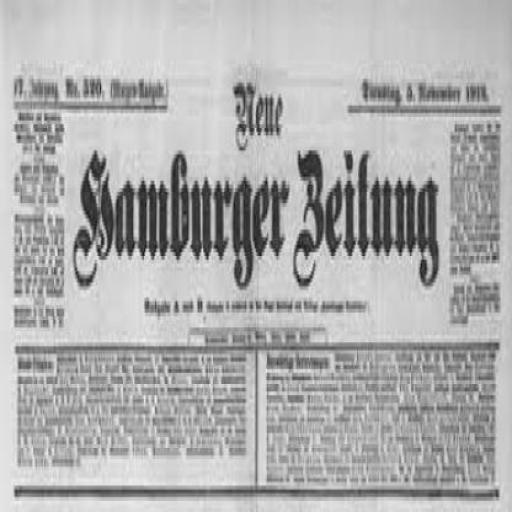paper: (0, 0, 511, 508)
